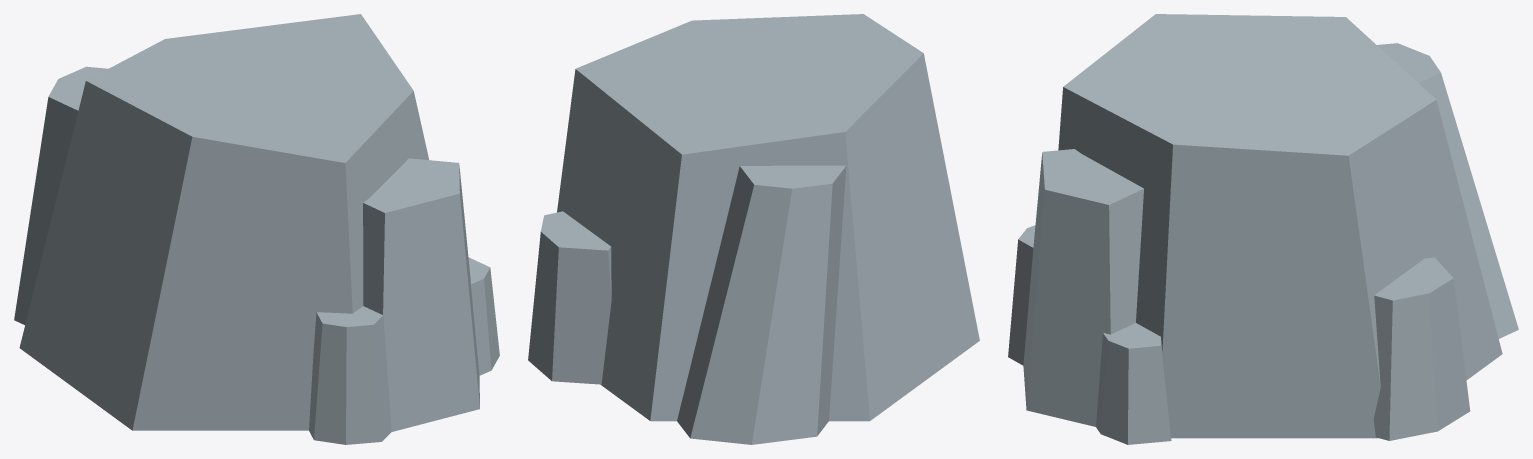
Rendered from Mountain_02.fbx.
The picture shows the model from 3 angles, left to right: view 1: azimuth 30°, elevation 25°; view 2: azimuth 150°, elevation 25°; view 3: azimuth 270°, elevation 25°; orthographic projection. The views are drawn at different scales.
Parts seen in each view (by area): view 1: Mountain_02; view 2: Mountain_02; view 3: Mountain_02.
Boxes of the visible parts, left/top/right/bottom form: Mountain_02: left=14, top=14, right=499, bottom=444; Mountain_02: left=528, top=14, right=979, bottom=444; Mountain_02: left=1008, top=14, right=1518, bottom=444.
Size of the model in its own units: 4 by 3.04 by 4.93.
